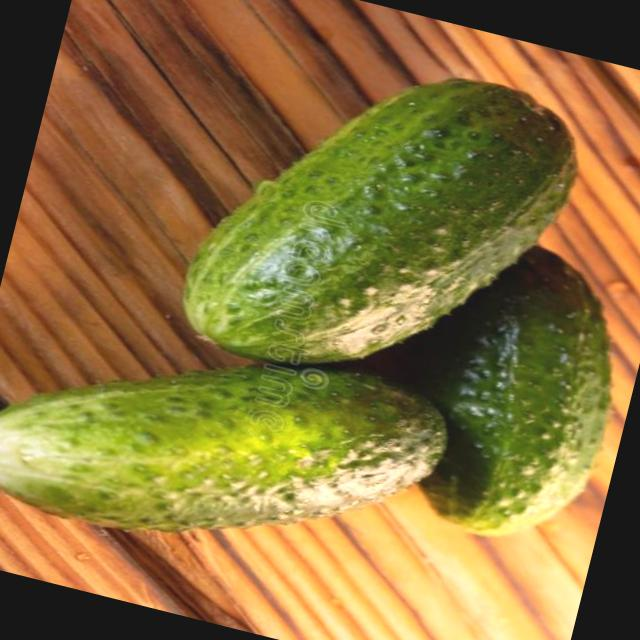Cucumber: (180, 32, 576, 413), (0, 294, 440, 589)
